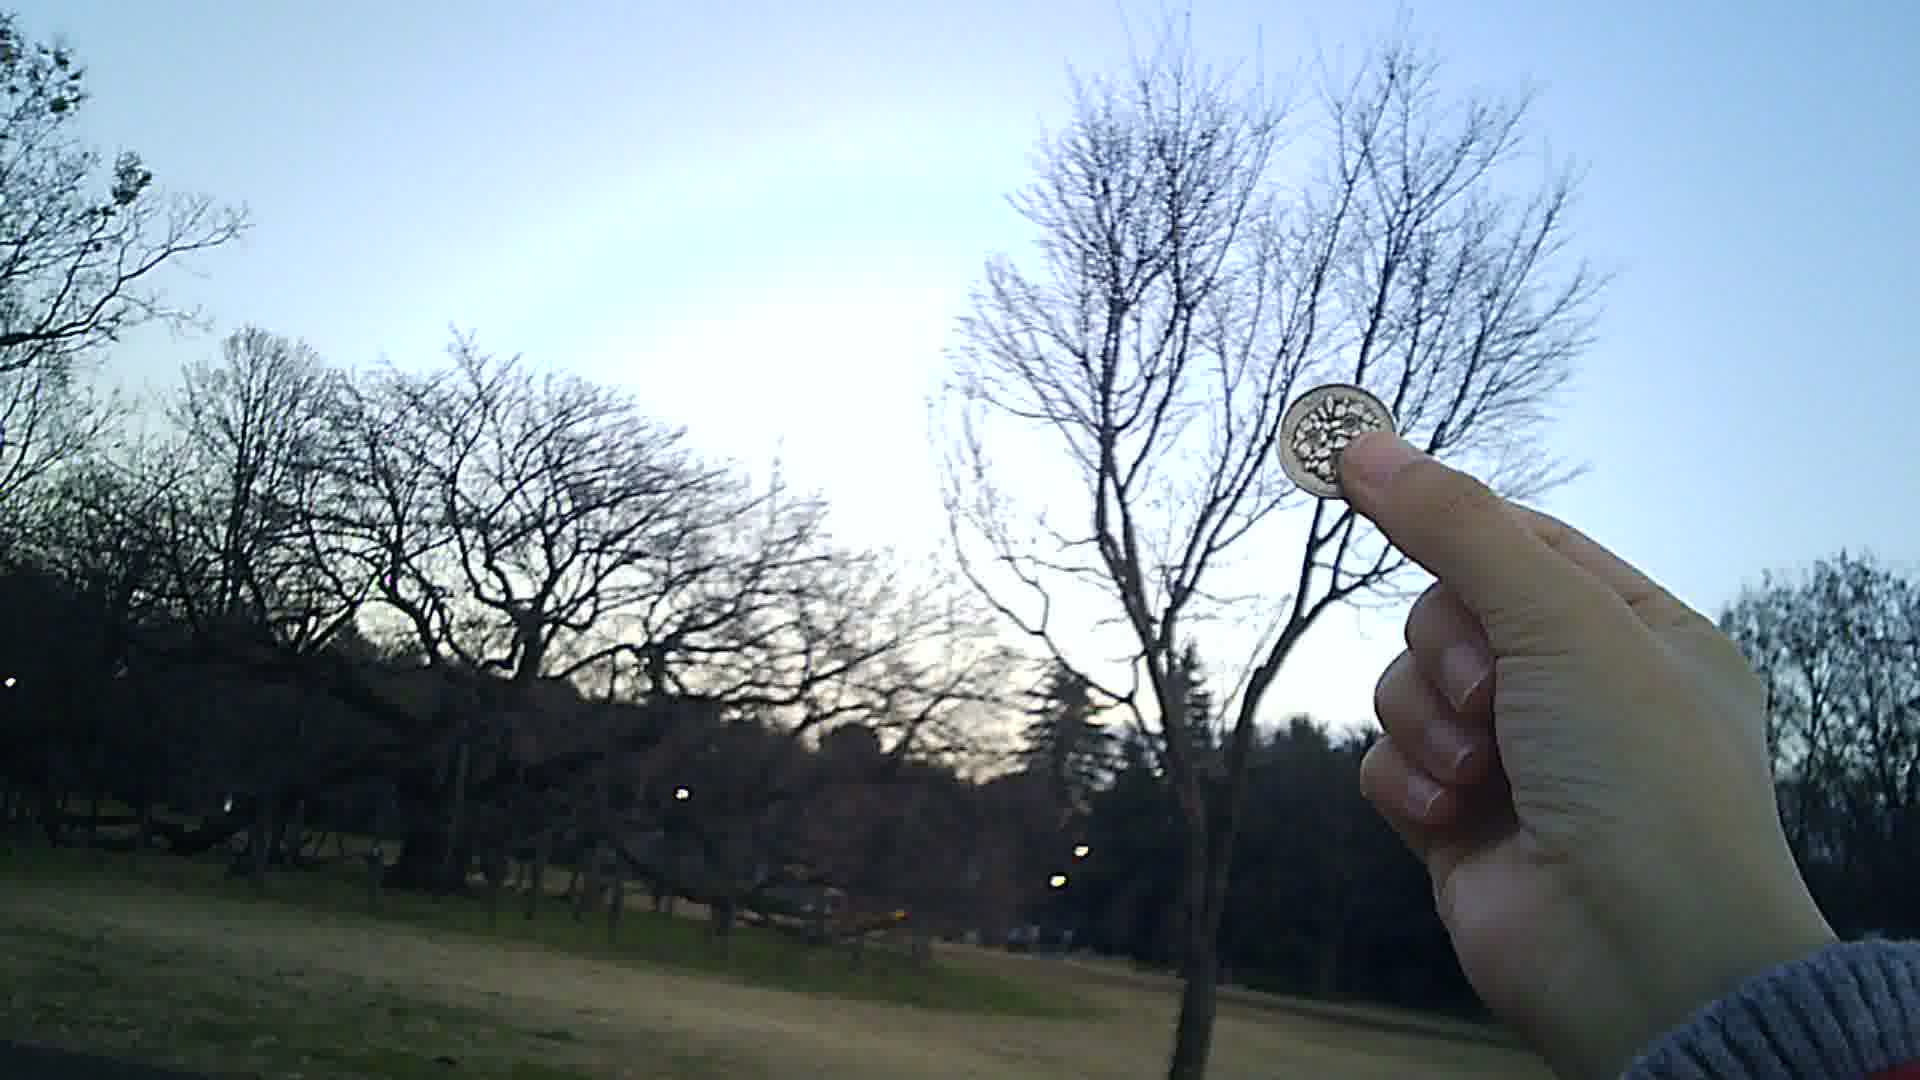100 Yen: (1273, 382, 1400, 506)
